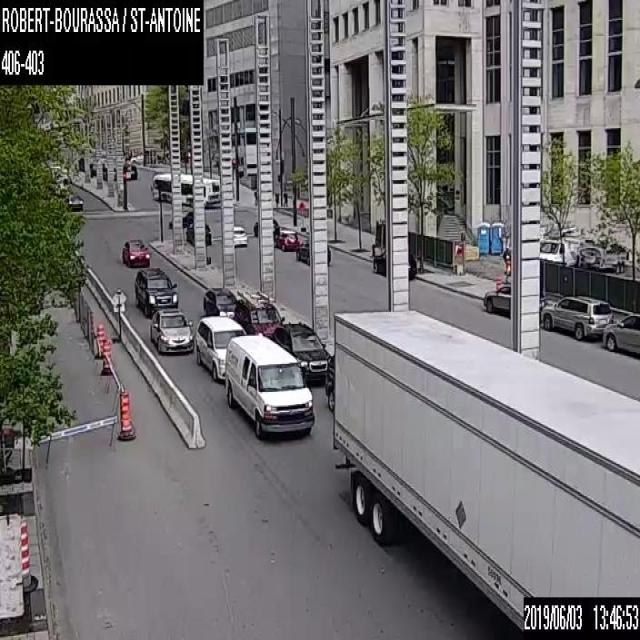bus: (152, 170, 220, 208)
construction: (18, 522, 36, 594), (117, 389, 135, 439), (101, 337, 111, 374), (298, 201, 306, 229), (97, 323, 104, 355), (494, 274, 504, 290)
pedestrian: (282, 188, 288, 209), (274, 188, 279, 210), (254, 188, 258, 208)
vehicle: (334, 308, 639, 633), (225, 333, 314, 437), (272, 321, 331, 384), (196, 315, 246, 381), (540, 294, 614, 338), (539, 237, 626, 273), (234, 288, 284, 336), (134, 266, 178, 317), (149, 306, 193, 354), (482, 283, 546, 313), (602, 312, 639, 354), (372, 247, 417, 280), (295, 238, 332, 266), (202, 287, 237, 315), (122, 237, 150, 266), (253, 216, 279, 238), (324, 352, 334, 409), (186, 222, 210, 245), (275, 228, 300, 250), (168, 208, 193, 226), (233, 224, 247, 247), (122, 161, 136, 180), (66, 194, 83, 209), (77, 156, 93, 170), (90, 161, 104, 177), (102, 166, 117, 180)
